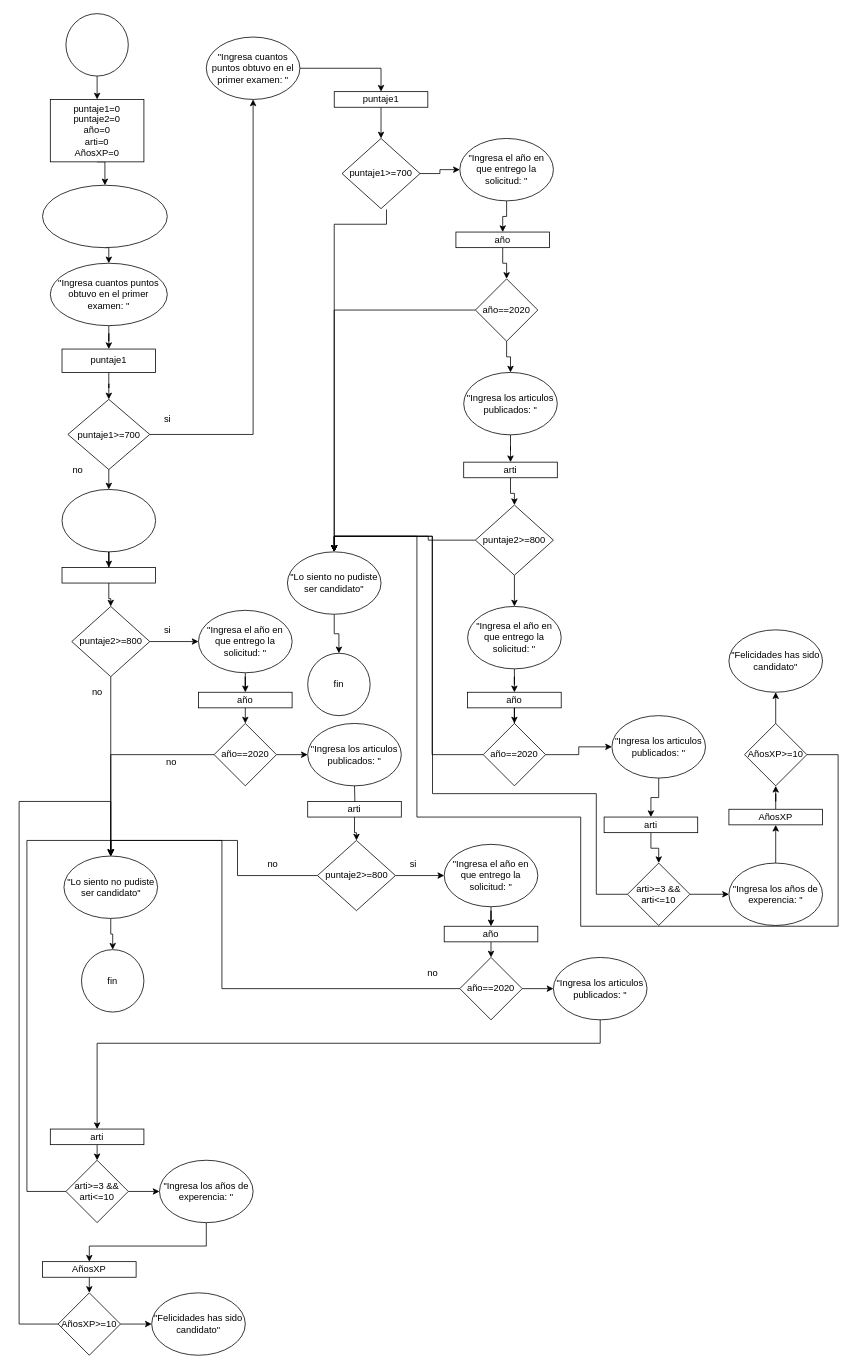
The diagram is 858 pixels wide and 1369 high, and some of its shapes have lost their labels. Here are the shapes that lost their labels. From the top down, the box of each, then its label:
(65, 13, 128, 76): inicio
(42, 184, 167, 248): " programa que determina si una persona es candidata a concursar por un premio"
(61, 489, 156, 552): "Ingresa cuantos puntos obtuvo en el segundo examen: "
(61, 567, 156, 583): puntaje2
